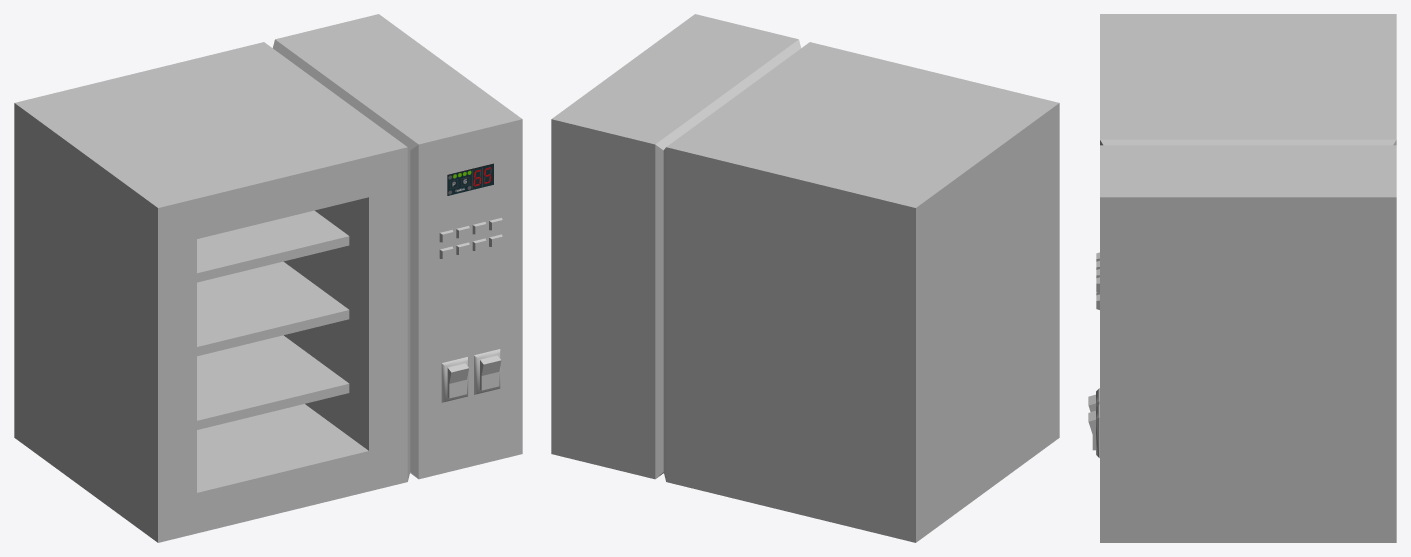
The model's file is Sterilizer_02.fbx.
3 renders of one model, left to right at view 1: azimuth 30°, elevation 25°; view 2: azimuth 150°, elevation 25°; view 3: azimuth 270°, elevation 25°, orthographic. The views are drawn at different scales.
Parts seen in each view (by area): view 1: Sterilizer_02; view 2: Sterilizer_02; view 3: Sterilizer_02.
Part boxes in pixels (x1,y1,x2,y2): Sterilizer_02: (14,14,522,542); Sterilizer_02: (551,14,1059,542); Sterilizer_02: (1088,14,1396,542).
Bounding box in the file's own units: 41 × 29.09 × 36.
